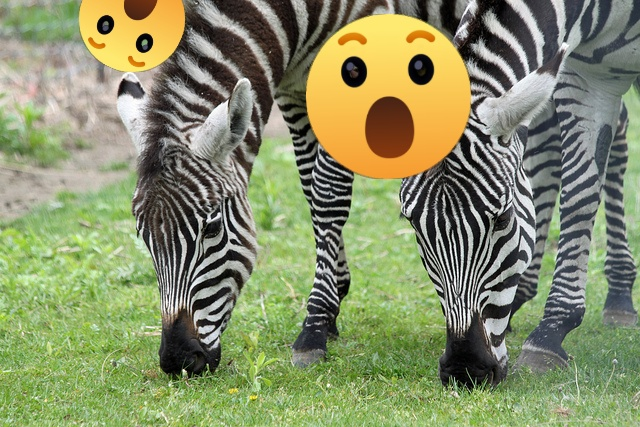wow: (306, 14, 471, 179), (79, 0, 185, 72)
